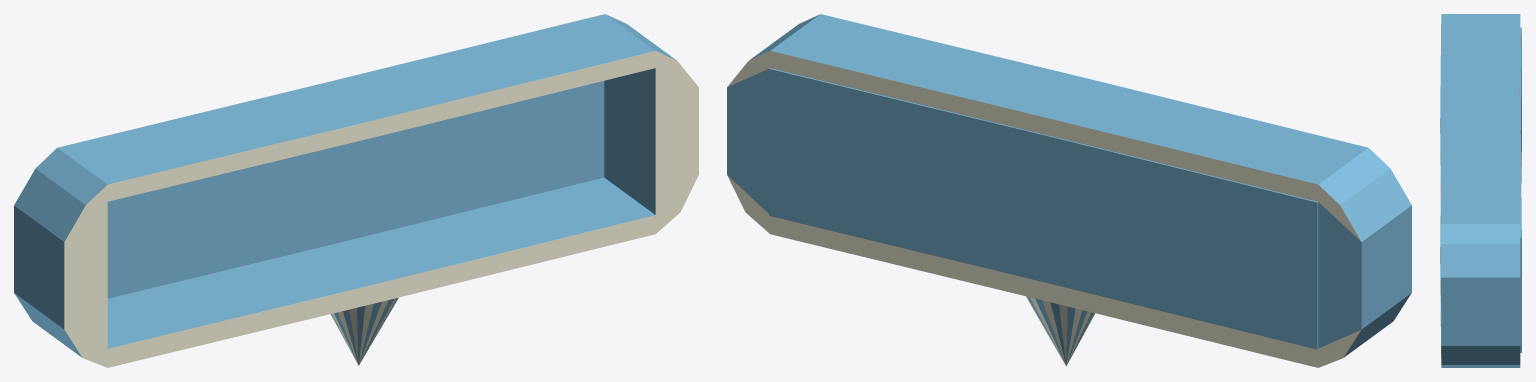
Rendered from kanban.dae.
3 views of the same model, side by side, from view 1: azimuth 30°, elevation 25°; view 2: azimuth 150°, elevation 25°; view 3: azimuth 270°, elevation 25° (orthographic). The views are drawn at different scales.
Parts seen in each view (by area): view 1: Cube, 円錐; view 2: Cube, 円錐; view 3: Cube.
Boxes of the visible parts, left/top/right/bottom form: Cube: left=14, top=14, right=698, bottom=367; 円錐: left=330, top=297, right=398, bottom=365; Cube: left=727, top=14, right=1411, bottom=367; 円錐: left=1026, top=296, right=1094, bottom=366; Cube: left=1440, top=14, right=1521, bottom=367.
Bounding box in the file's own units: 5.92 × 0.8407 × 2.39.
